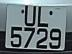2: (36, 27, 49, 49)
5: (9, 26, 23, 50)
7: (23, 27, 36, 50)
9: (49, 28, 63, 49)
L: (37, 6, 51, 28)
U: (21, 6, 37, 28)
